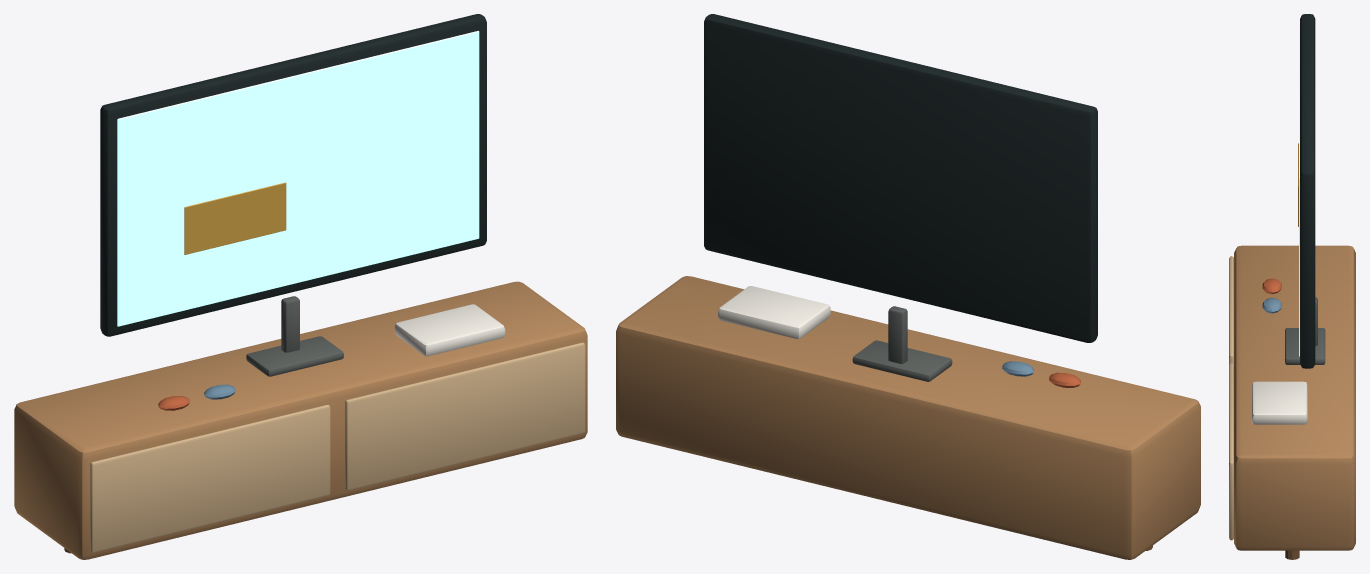
File: media_console.glb
The picture shows the model from 3 angles, left to right: view 1: azimuth 30°, elevation 25°; view 2: azimuth 150°, elevation 25°; view 3: azimuth 270°, elevation 25°; orthographic projection. The views are drawn at different scales.
Parts seen in each view (by area): view 1: FURN-media_console; view 2: FURN-media_console; view 3: FURN-media_console.
Boxes of the visible parts, x1,y1,x2,y2 form: FURN-media_console: [14, 14, 587, 559]; FURN-media_console: [616, 14, 1200, 559]; FURN-media_console: [1229, 14, 1355, 559].
Size of the model in its own units: 2 by 1.6 by 0.5.
